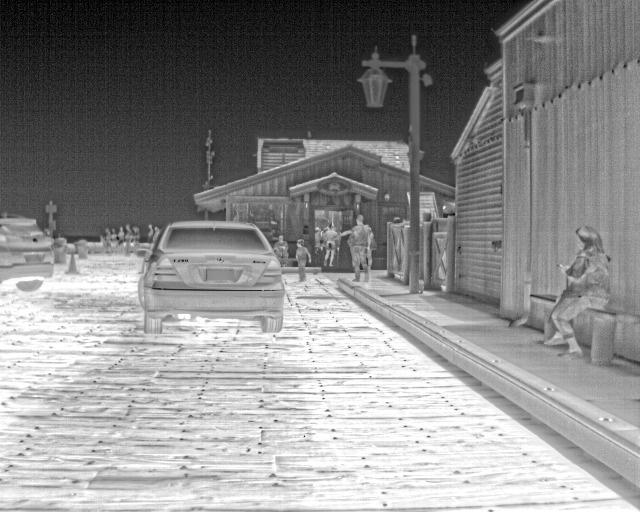bicycle: (133, 220, 285, 336), (1, 209, 57, 293)
empty: (544, 224, 616, 359), (348, 216, 376, 282), (320, 222, 340, 270), (293, 240, 313, 280), (273, 235, 290, 270), (114, 224, 127, 254), (123, 224, 135, 255)
